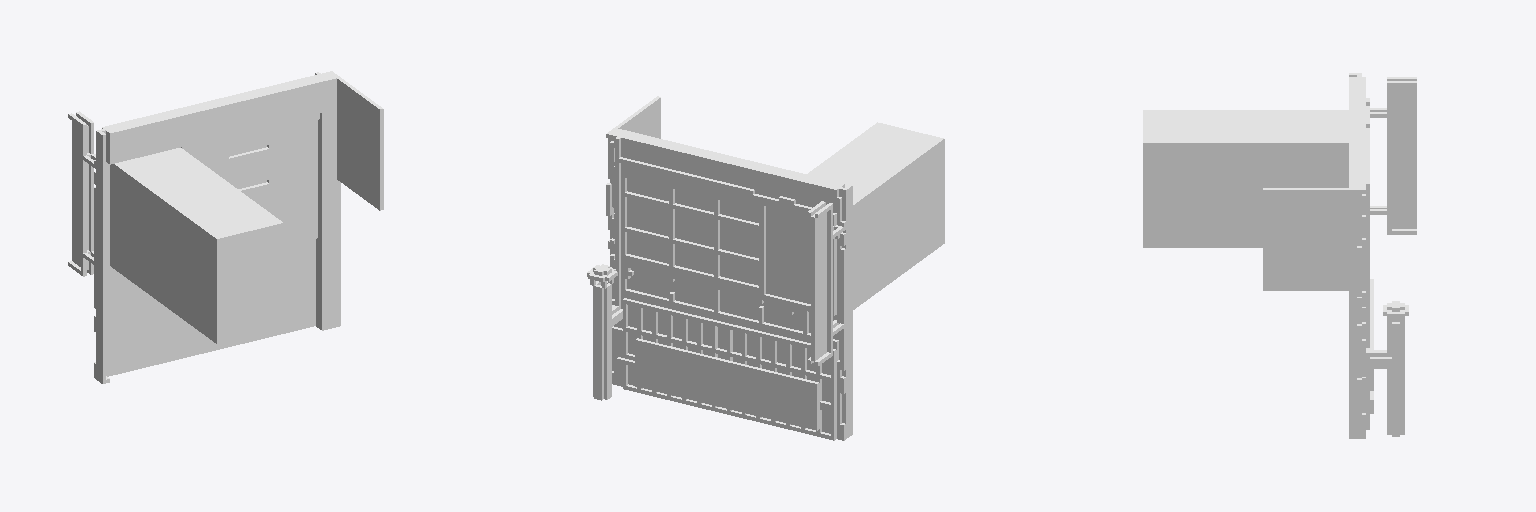
File: Tutorialmap_V2_unfinished-1.obj
The picture shows the model from 3 angles: view 1: azimuth 30°, elevation 25°; view 2: azimuth 150°, elevation 25°; view 3: azimuth 270°, elevation 25°; orthographic projection.
Visible parts, largest first — view 1: object 1; view 2: object 1; view 3: object 1.
Boxes of the visible parts, x1=… form: object 1: x1=68, y1=71, x2=383, y2=383; object 1: x1=587, y1=96, x2=944, y2=440; object 1: x1=1143, y1=73, x2=1416, y2=438.
Bounding box in the file's own units: 6.4 × 6.4 × 6.4.